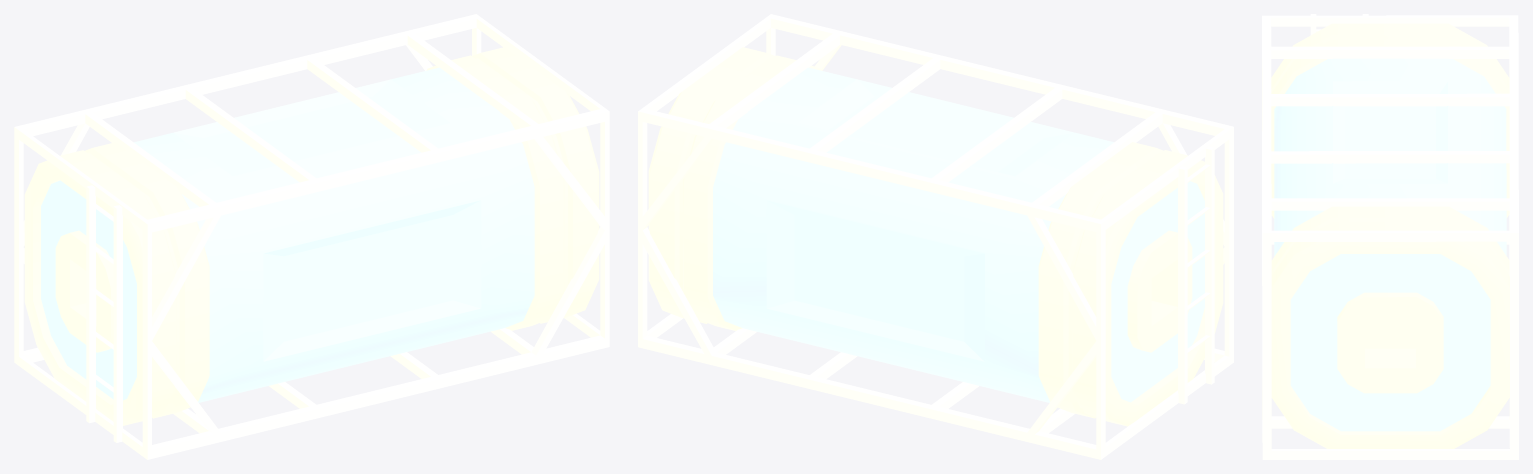
The model's file is TankContainer.glb.
3 views of the same model, side by side, from view 1: azimuth 30°, elevation 25°; view 2: azimuth 150°, elevation 25°; view 3: azimuth 270°, elevation 25° (orthographic). The views are drawn at different scales.
Visible parts, largest first — view 1: TankContainer; view 2: TankContainer; view 3: TankContainer.
Part boxes in pixels (x1,y1,x2,y2): TankContainer: (14, 14, 609, 459); TankContainer: (638, 14, 1233, 459); TankContainer: (1262, 14, 1518, 459).
Bounding box in the file's own units: 3.16 × 1.52 × 1.56.
